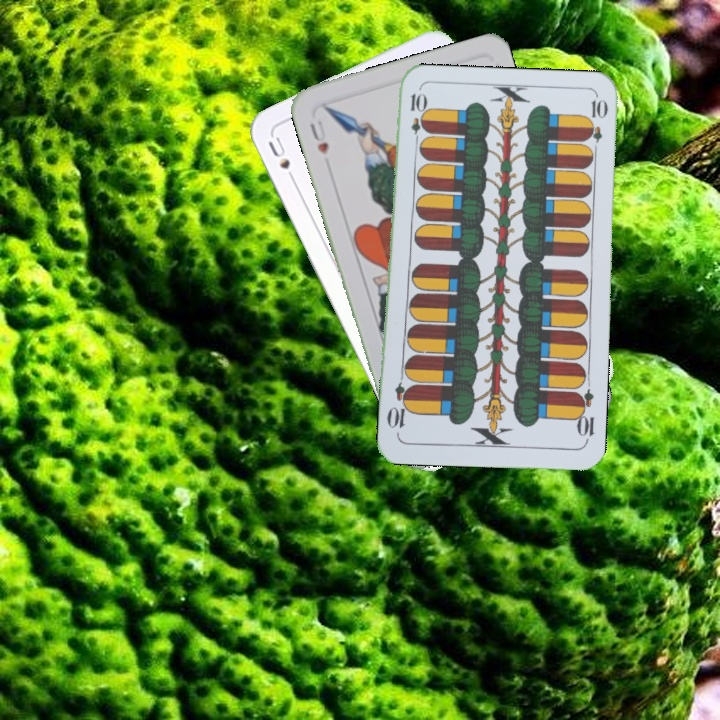E10: (571, 386, 597, 445), (406, 89, 425, 148)
HU: (306, 116, 331, 158)
SU: (264, 132, 300, 188)
